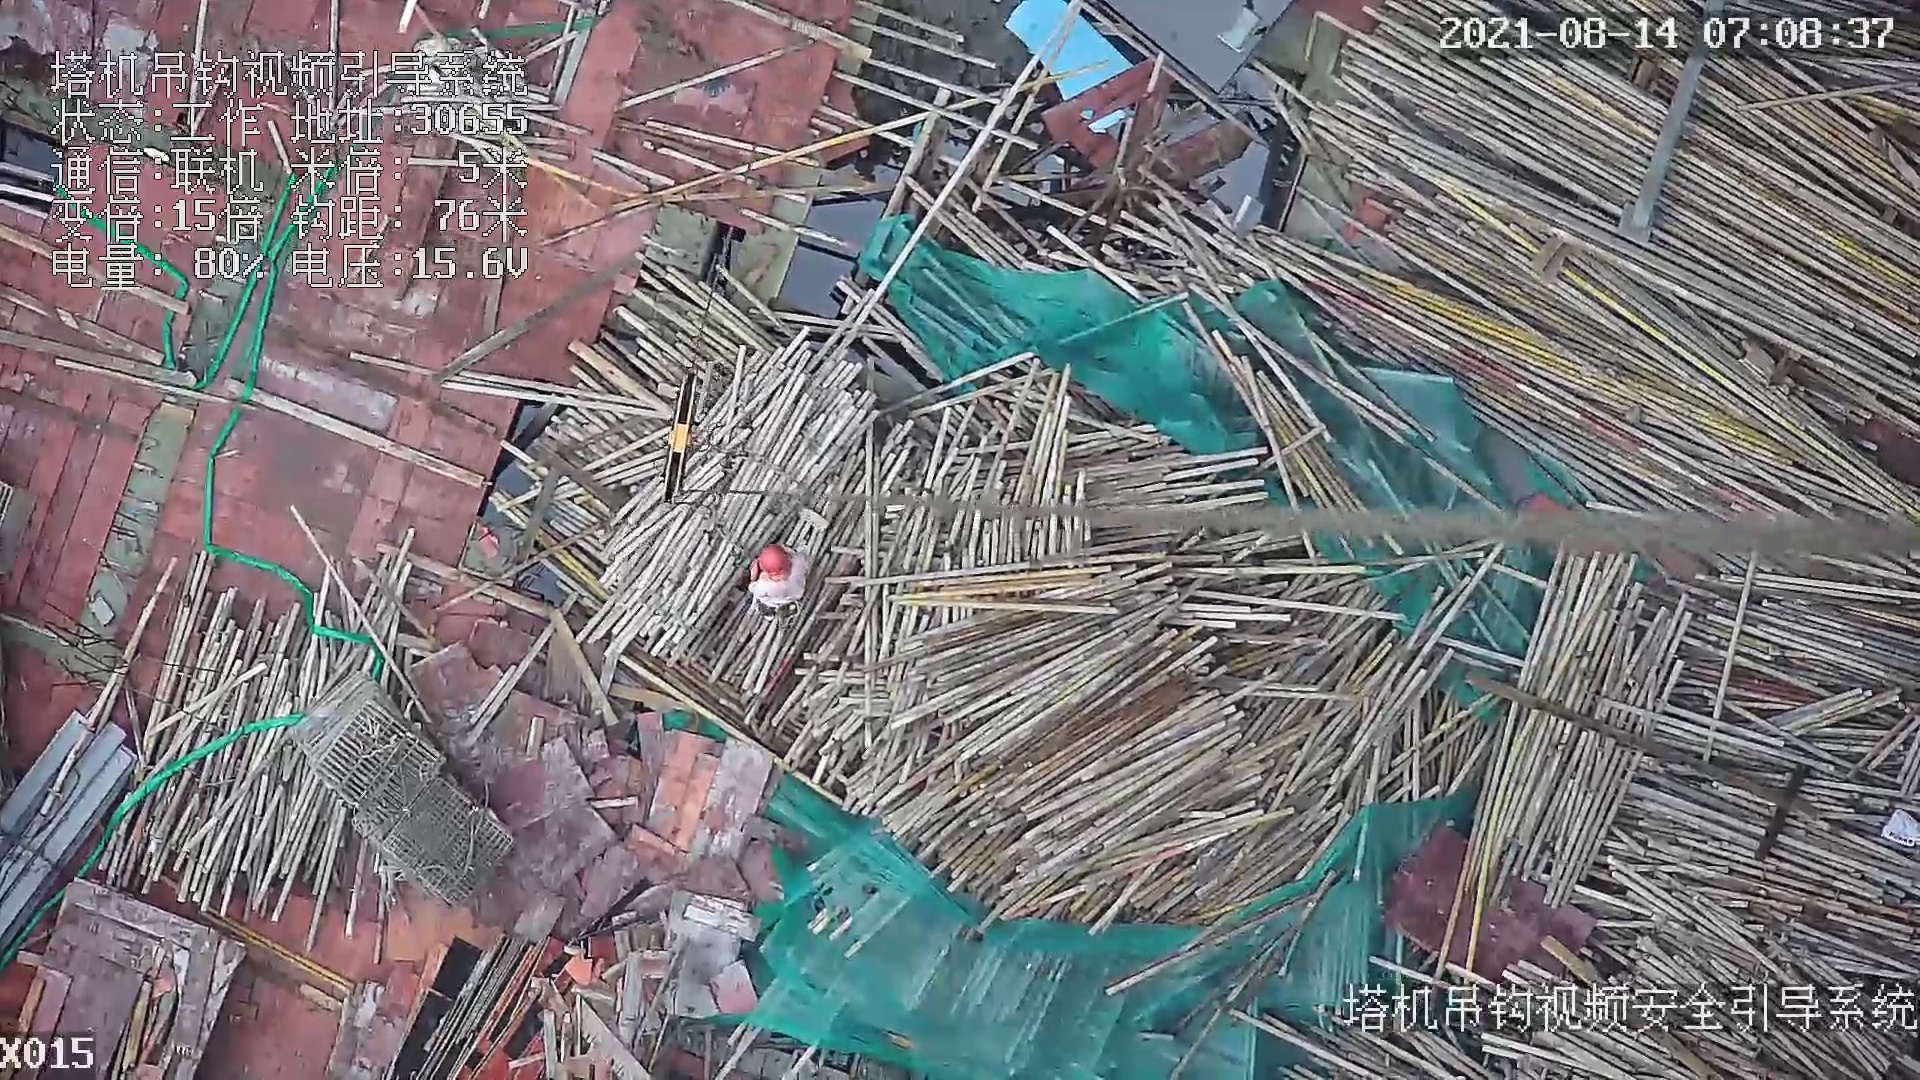helmet: (760, 544, 790, 580)
hook: (656, 371, 699, 514)
person: (733, 539, 813, 617)
